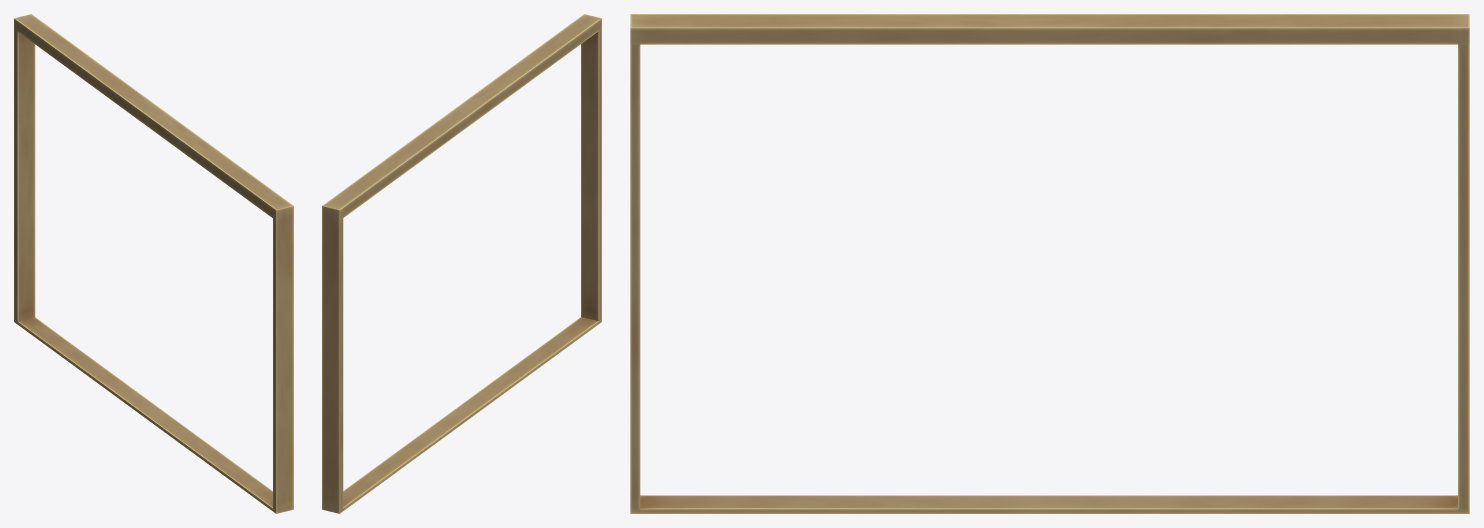
Rendered from mypeng_door01.fbx.
The picture shows the model from 3 angles, left to right: view 1: azimuth 30°, elevation 25°; view 2: azimuth 150°, elevation 25°; view 3: azimuth 270°, elevation 25°; orthographic projection. The views are drawn at different scales.
Parts seen in each view (by area): view 1: mypeng_door01; view 2: mypeng_door01; view 3: mypeng_door01.
Part boxes in pixels (bbox=[...]): mypeng_door01: bbox=[14, 14, 293, 513]; mypeng_door01: bbox=[322, 14, 601, 513]; mypeng_door01: bbox=[630, 14, 1469, 513].
Size of the model in its own units: 14.01 by 231 by 361.
1 material, 1 textured.
